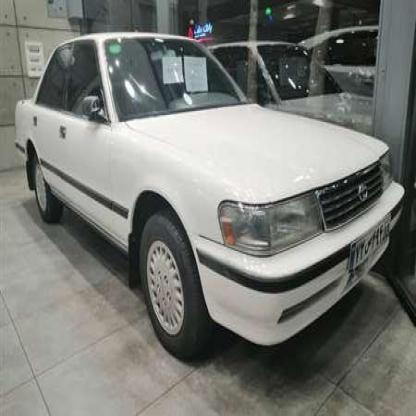Car: (12, 32, 403, 366)
